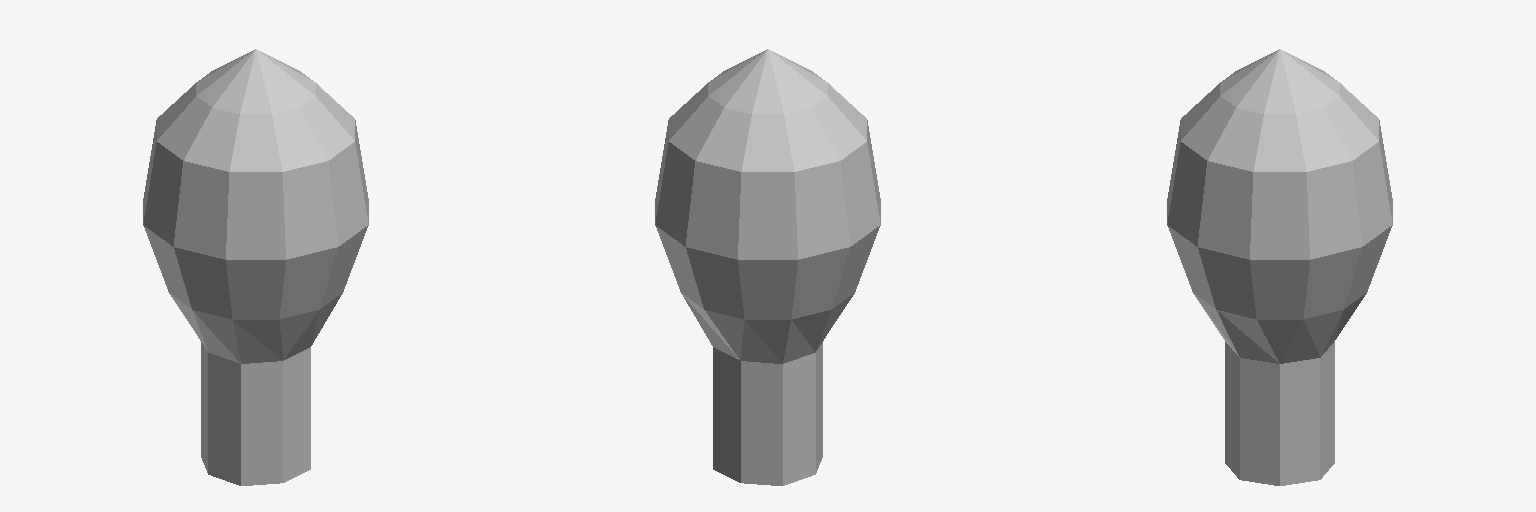
The model's file is bulb.obj.
The picture shows the model from 3 angles: view 1: azimuth 30°, elevation 25°; view 2: azimuth 150°, elevation 25°; view 3: azimuth 270°, elevation 25°; orthographic projection.
Parts seen in each view (by area): view 1: Bulb:___Default Mesh Mesh; view 2: Bulb:___Default Mesh Mesh; view 3: Bulb:___Default Mesh Mesh.
Boxes of the visible parts, x1,y1,x2,y2 form: Bulb:___Default Mesh Mesh: [143, 49, 368, 485]; Bulb:___Default Mesh Mesh: [655, 49, 880, 485]; Bulb:___Default Mesh Mesh: [1167, 49, 1392, 485].
Bounding box in the file's own units: 0.3633 × 0.7365 × 0.3633.